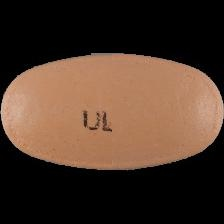0615-7956: (0, 0, 224, 224)
